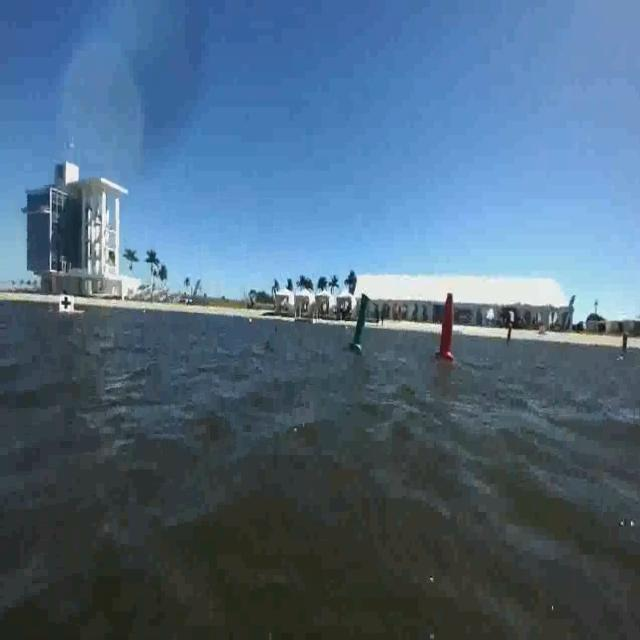green-column-buoy: (349, 291, 371, 351)
red-column-buoy: (435, 291, 457, 363)
